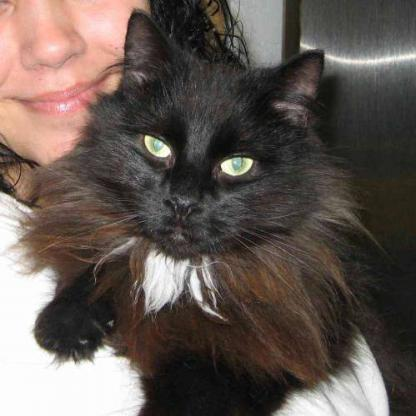cat: (52, 30, 340, 305)
